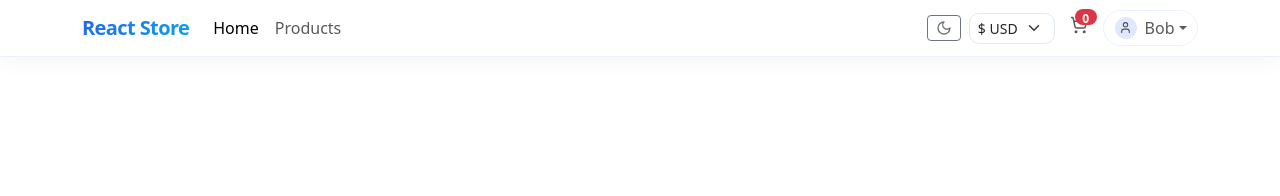
Scenario: AppNavbar — logged in as admin › shows Admin link
This screenshot has width=1280, height=196.
Click the button "Bob". click: (1151, 28)
box: [1103, 10, 1198, 46]
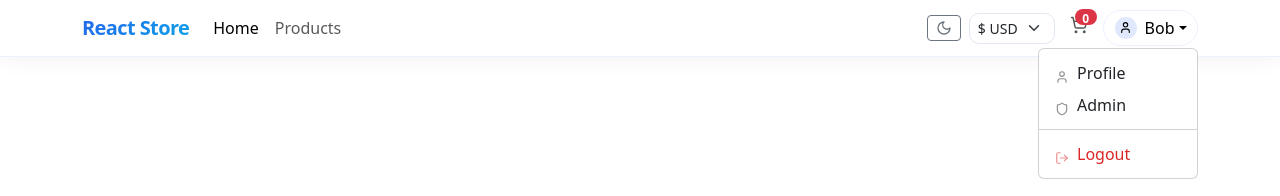
expect the link "Admin" is shown: met, box [1055, 94, 1126, 116]
